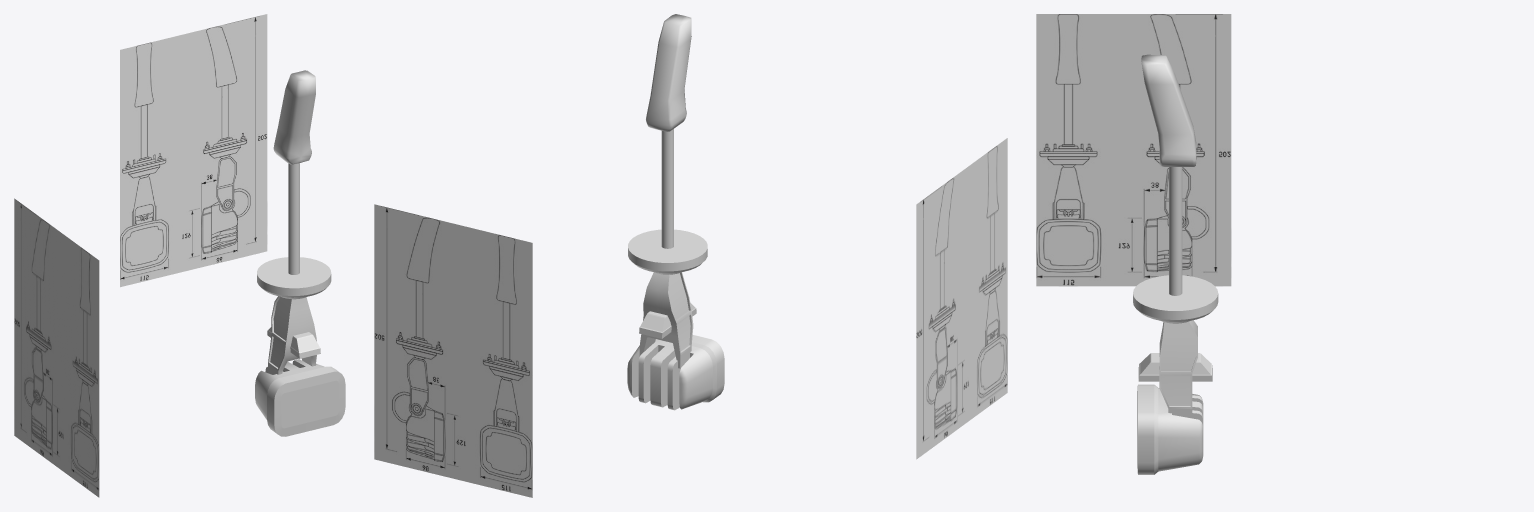
Rendered from spotlight_test.dae.
The picture shows the model from 3 angles, left to right: view 1: azimuth 30°, elevation 25°; view 2: azimuth 150°, elevation 25°; view 3: azimuth 270°, elevation 25°; orthographic projection. The views are drawn at different scales.
Visible parts, largest first — view 1: Y_image, X_image, NRM_LED_spotlight, NRM_spotlight_Handle, NRM_spotlight_Stand, NRM_spotlight_Base, NRM_LED_spotlight_glass, NRM_spotlight_Handle_rod, Cube; view 2: Y_image, X_image, NRM_LED_spotlight, NRM_spotlight_Handle, NRM_spotlight_Stand, NRM_spotlight_Base, NRM_spotlight_Handle_rod, Cube; view 3: X_image, NRM_LED_spotlight, NRM_spotlight_Handle, NRM_spotlight_Stand, NRM_spotlight_Base, NRM_spotlight_Handle_rod, Cube.
Boxes of the visible parts, x1,y1,x2,y2 form: Y_image: [120, 14, 267, 287]; X_image: [14, 198, 99, 497]; NRM_LED_spotlight: [255, 359, 345, 436]; NRM_spotlight_Handle: [273, 70, 315, 164]; NRM_spotlight_Stand: [268, 296, 316, 374]; NRM_spotlight_Base: [257, 257, 331, 299]; NRM_LED_spotlight_glass: [281, 380, 338, 428]; NRM_spotlight_Handle_rod: [288, 163, 299, 274]; Cube: [267, 327, 320, 358]; Y_image: [374, 204, 532, 497]; X_image: [916, 138, 1007, 459]; NRM_LED_spotlight: [627, 335, 724, 410]; NRM_spotlight_Handle: [646, 14, 691, 131]; NRM_spotlight_Stand: [639, 272, 693, 368]; NRM_spotlight_Base: [628, 229, 707, 274]; NRM_spotlight_Handle_rod: [661, 129, 673, 248]; Cube: [639, 303, 696, 338]; X_image: [1036, 14, 1231, 286]; NRM_LED_spotlight: [1137, 384, 1203, 474]; NRM_spotlight_Handle: [1141, 54, 1196, 166]; NRM_spotlight_Stand: [1159, 320, 1197, 418]; NRM_spotlight_Base: [1133, 275, 1218, 323]; NRM_spotlight_Handle_rod: [1169, 167, 1182, 295]; Cube: [1138, 353, 1212, 381].
Bounding box in the file's own units: 0.4365 × 0.4209 × 0.3854.
8 materials, 2 textured.
